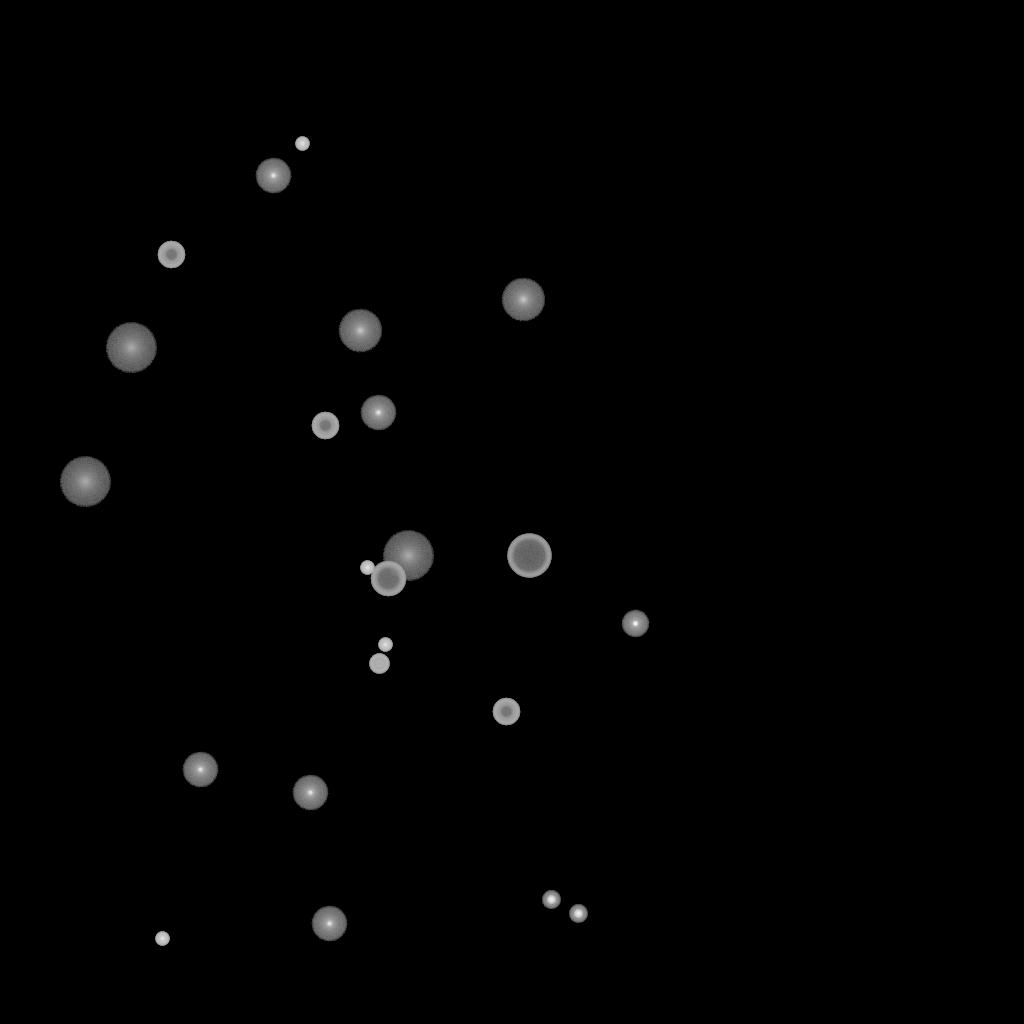depth:-10: (621, 610, 649, 638)
depth:-20: (569, 905, 587, 923), (542, 891, 560, 909)
depth:-30: (360, 561, 374, 575), (295, 137, 309, 151), (155, 932, 169, 946), (378, 638, 392, 652)
depth:-40: (369, 654, 389, 674)
depth:-50: (157, 241, 185, 269), (492, 698, 520, 726), (311, 412, 339, 440)
depth:-60: (370, 561, 406, 597)
depth:-70: (507, 534, 551, 578)
depth:0: (311, 906, 347, 942), (360, 395, 396, 431), (292, 775, 328, 811), (255, 158, 291, 194), (182, 752, 218, 788)
depth:10: (338, 309, 382, 353), (501, 278, 545, 322)
depth:20: (105, 323, 157, 373), (59, 457, 111, 507), (382, 531, 434, 581)
